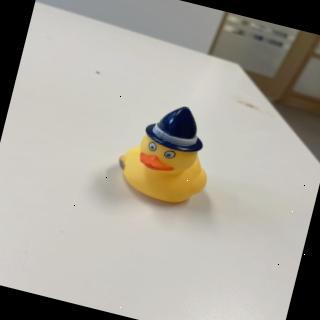duck_specialty: (111, 93, 226, 212)
